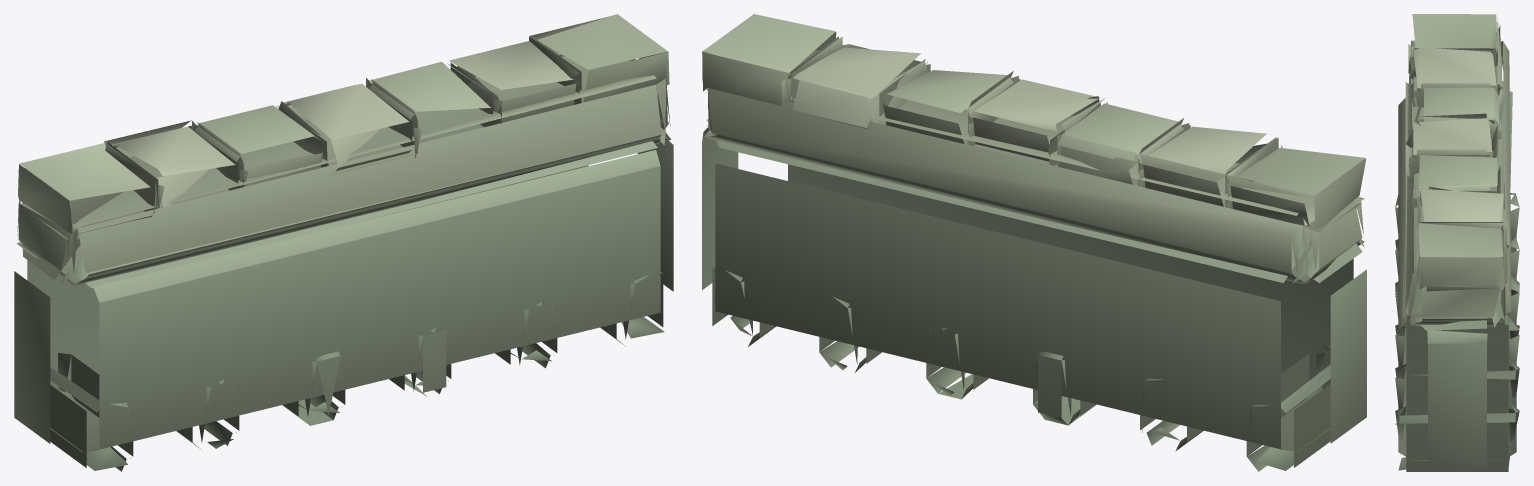
Rendered from hedge.lod.glb.
The picture shows the model from 3 angles, left to right: view 1: azimuth 30°, elevation 25°; view 2: azimuth 150°, elevation 25°; view 3: azimuth 270°, elevation 25°; orthographic projection. The views are drawn at different scales.
Parts seen in each view (by area): view 1: hedge.001; view 2: hedge.001; view 3: hedge.001.
Boxes of the visible parts, box(x1,y1,x2,y2) form: hedge.001: box(14, 14, 673, 471); hedge.001: box(702, 14, 1366, 471); hedge.001: box(1395, 14, 1519, 471).
Size of the model in its own units: 4 by 1.75 by 0.84.
